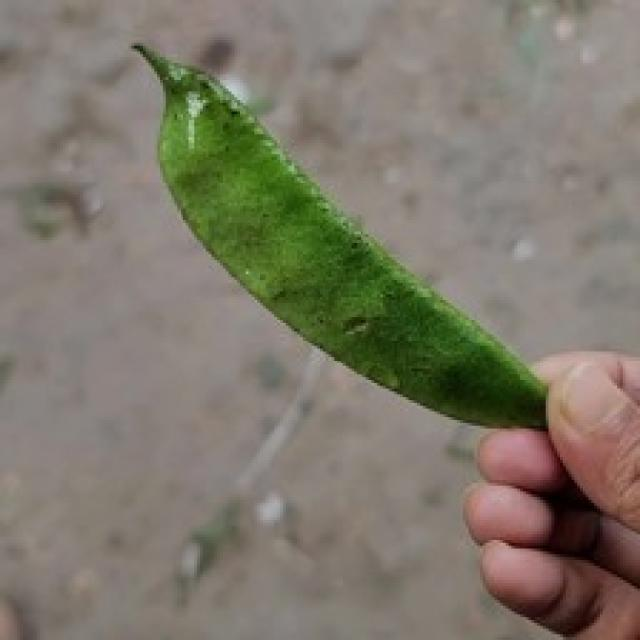Bean: (128, 37, 552, 432)
